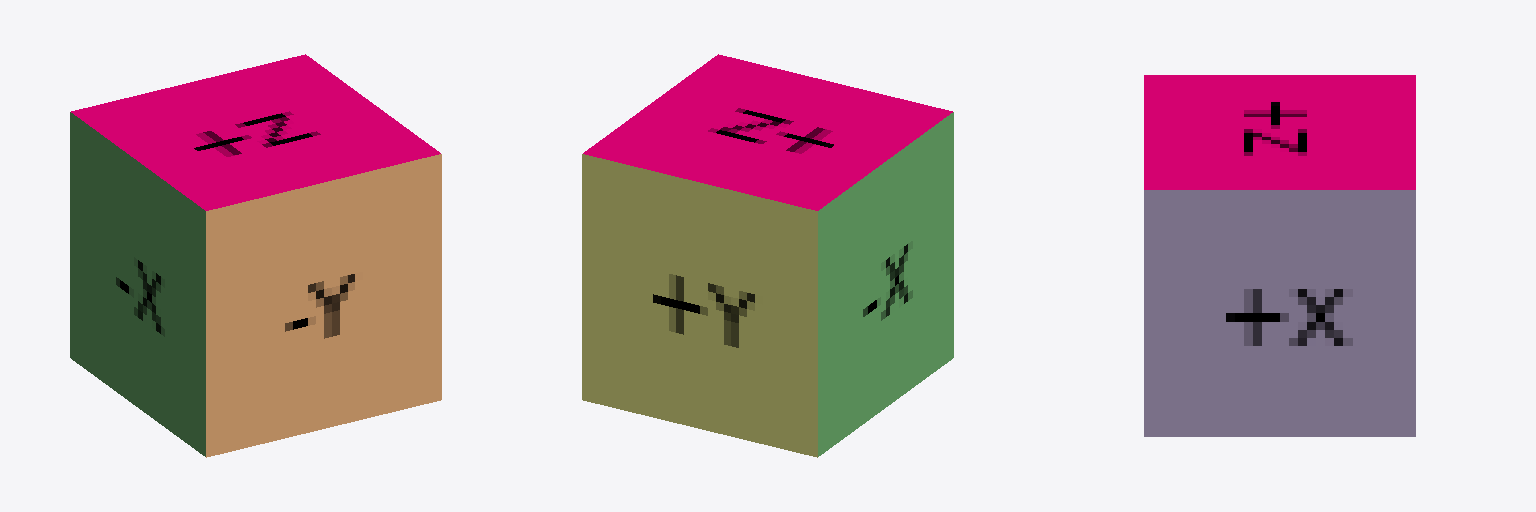
3 renders of one model, left to right at view 1: azimuth 30°, elevation 25°; view 2: azimuth 150°, elevation 25°; view 3: azimuth 270°, elevation 25°, orthographic.
Visible parts, largest first — view 1: Cube; view 2: Cube; view 3: Cube.
Boxes of the visible parts, <box> form: Cube: <box>70,54,441,457</box>; Cube: <box>582,54,953,457</box>; Cube: <box>1144,75,1415,436</box>.
Bounding box in the file's own units: 2 × 2 × 2.
Materials: 1 (1 with a texture image).